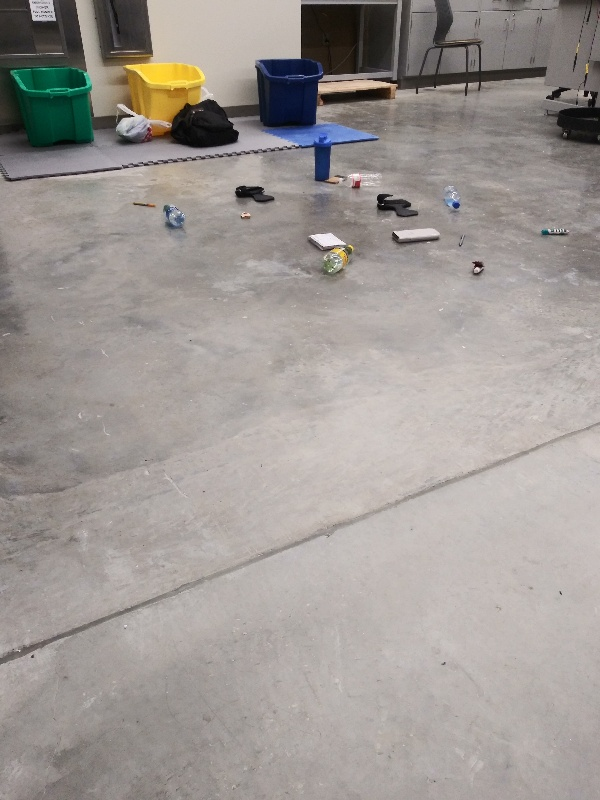bottle: (313, 242, 359, 280), (336, 170, 386, 191), (161, 200, 188, 229), (439, 182, 464, 213)
